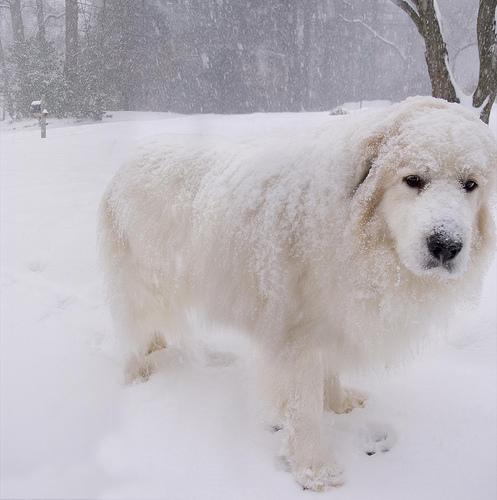Great_Pyrenees: (100, 101, 495, 492)
